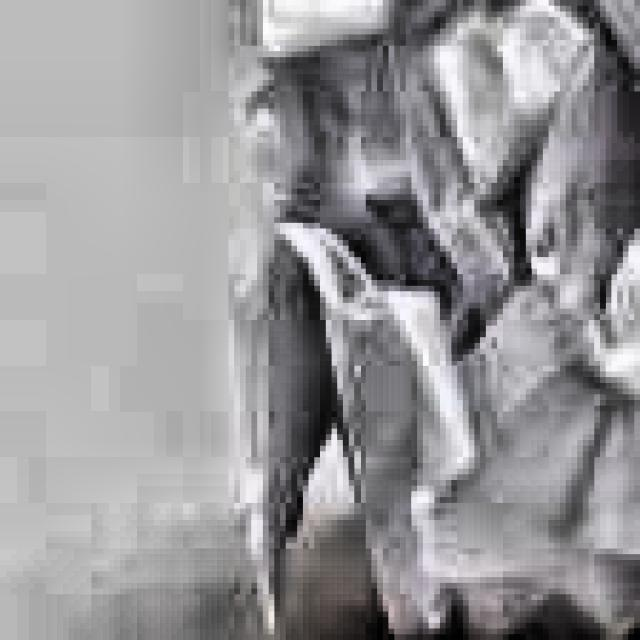paper: (227, 0, 640, 640)
